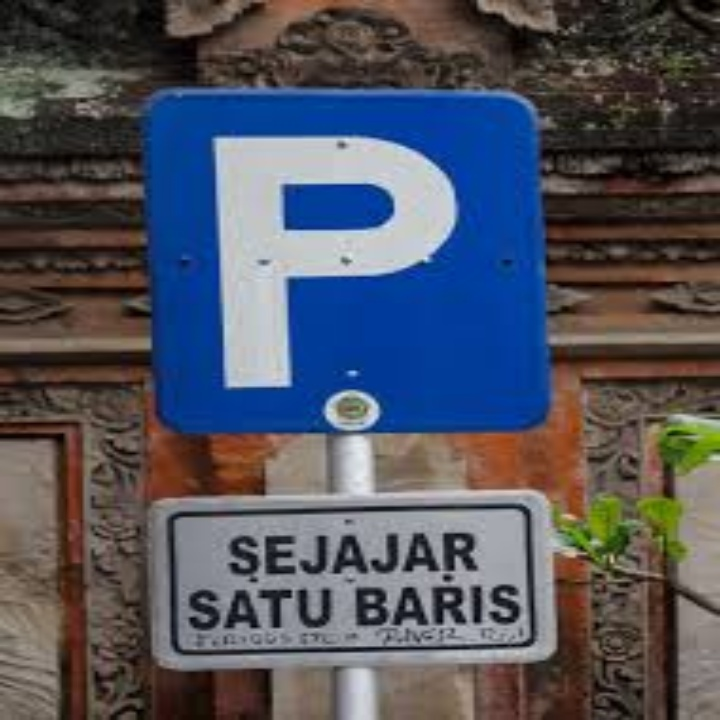parking: (203, 128, 470, 404)
